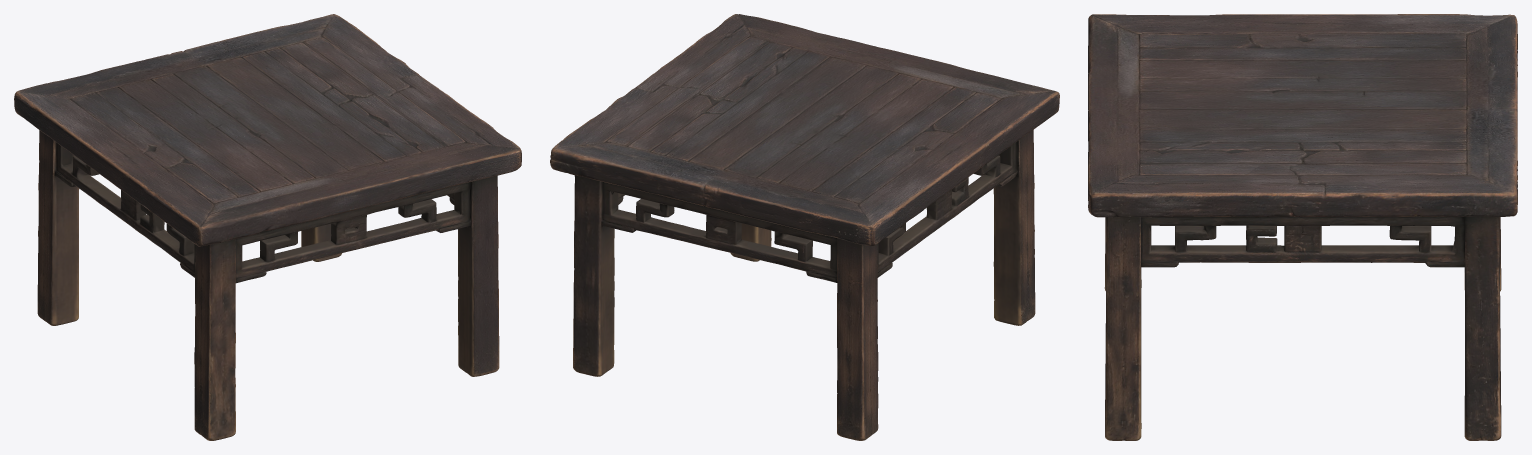
Rendered from 0-tea-table.glb.
The picture shows the model from 3 angles, left to right: view 1: azimuth 30°, elevation 25°; view 2: azimuth 150°, elevation 25°; view 3: azimuth 270°, elevation 25°; orthographic projection. The views are drawn at different scales.
Parts seen in each view (by area): view 1: tripo_node_3d757236-2d42-4399-a3f2-7cd6640fcc15; view 2: tripo_node_3d757236-2d42-4399-a3f2-7cd6640fcc15; view 3: tripo_node_3d757236-2d42-4399-a3f2-7cd6640fcc15.
Boxes of the visible parts, x1=… form: tripo_node_3d757236-2d42-4399-a3f2-7cd6640fcc15: x1=14, y1=14, x2=521, y2=440; tripo_node_3d757236-2d42-4399-a3f2-7cd6640fcc15: x1=550, y1=14, x2=1059, y2=440; tripo_node_3d757236-2d42-4399-a3f2-7cd6640fcc15: x1=1088, y1=14, x2=1517, y2=440.
Bounding box in the file's own units: 0.9965 × 0.659 × 1.
1 material, 1 textured.
